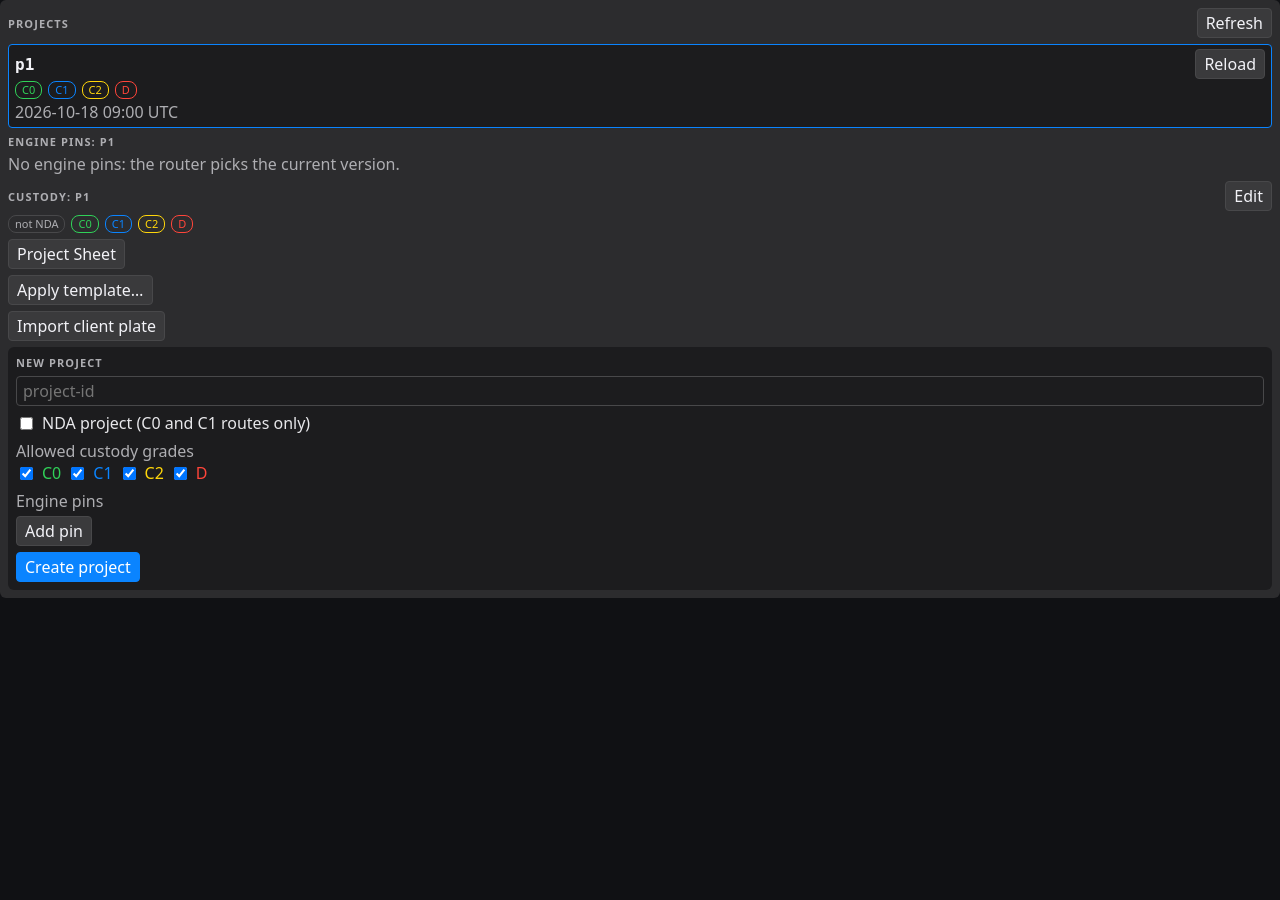
Test: import a client plate › posts the plate, shot and consent, then shows the packet as ingesting
Expected: the element with test id "custody-row" is shown, x1=8 y1=181 x2=1272 y2=233
Click the button "Import client plate": click(86, 326) x1=8 y1=311 x2=165 y2=341
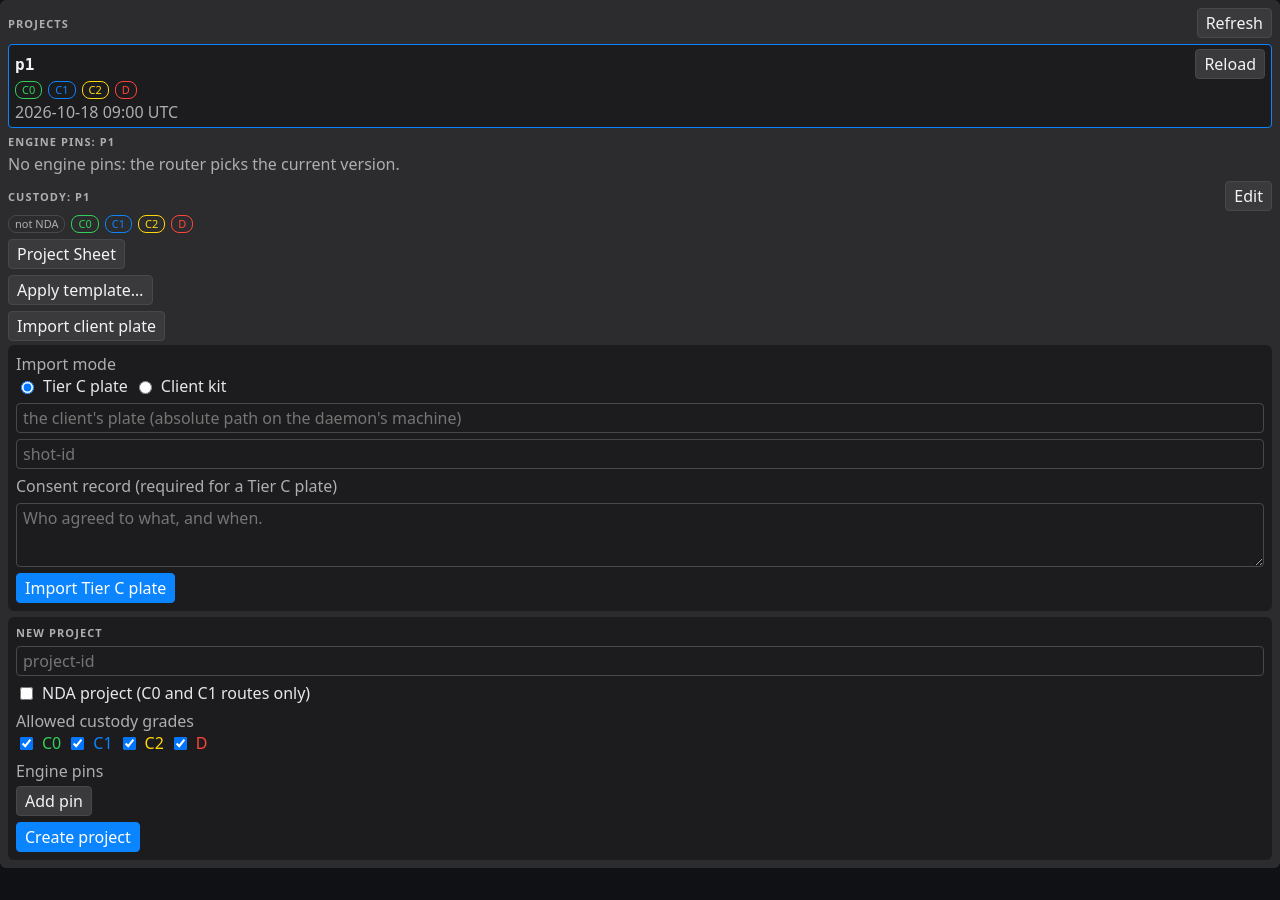
In the field named "Plate path": (640, 418) x1=16 y1=403 x2=1264 y2=433, type " /clients/tula/plate.png "
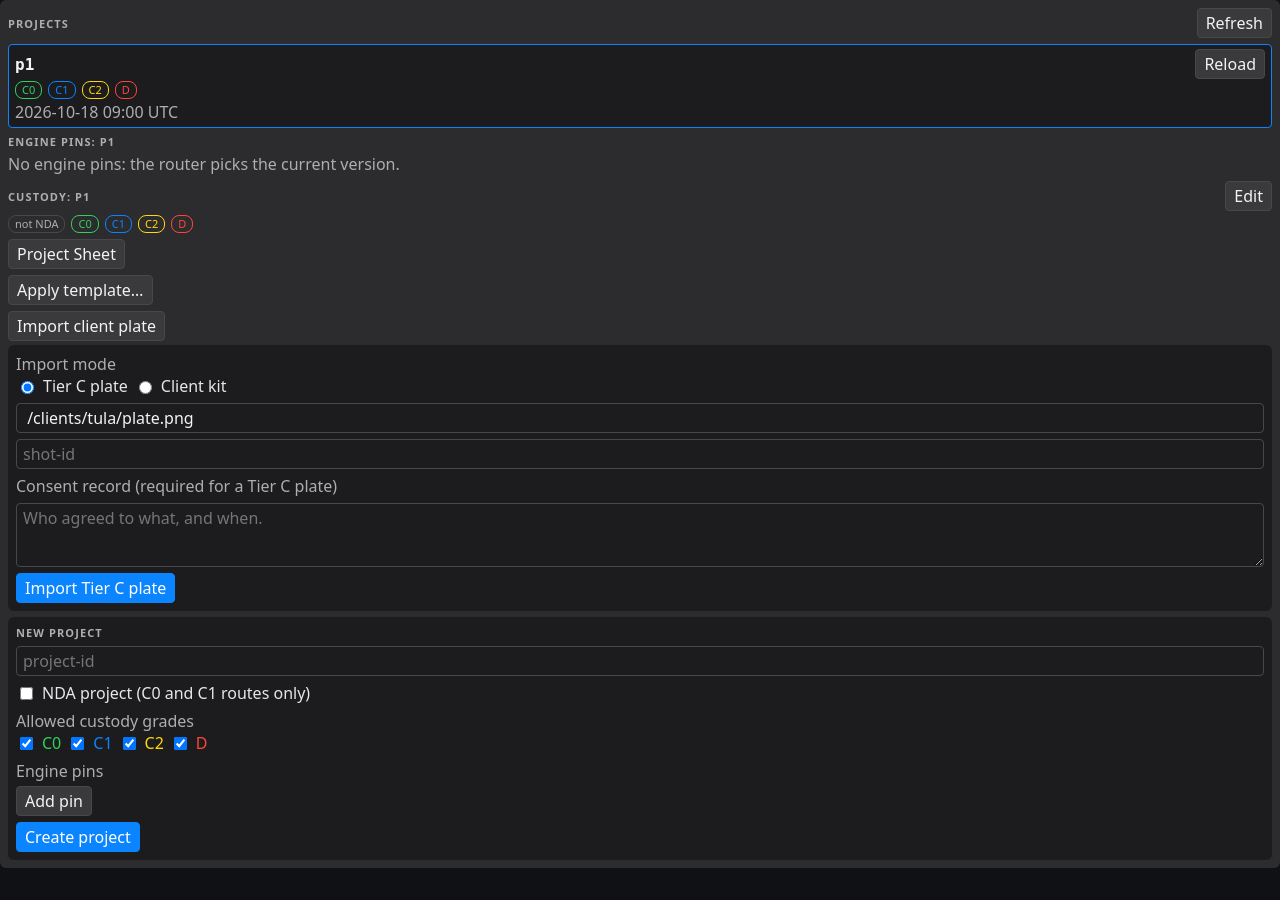
In the field named "Shot id": (640, 454) x1=16 y1=439 x2=1264 y2=469, type "s01"
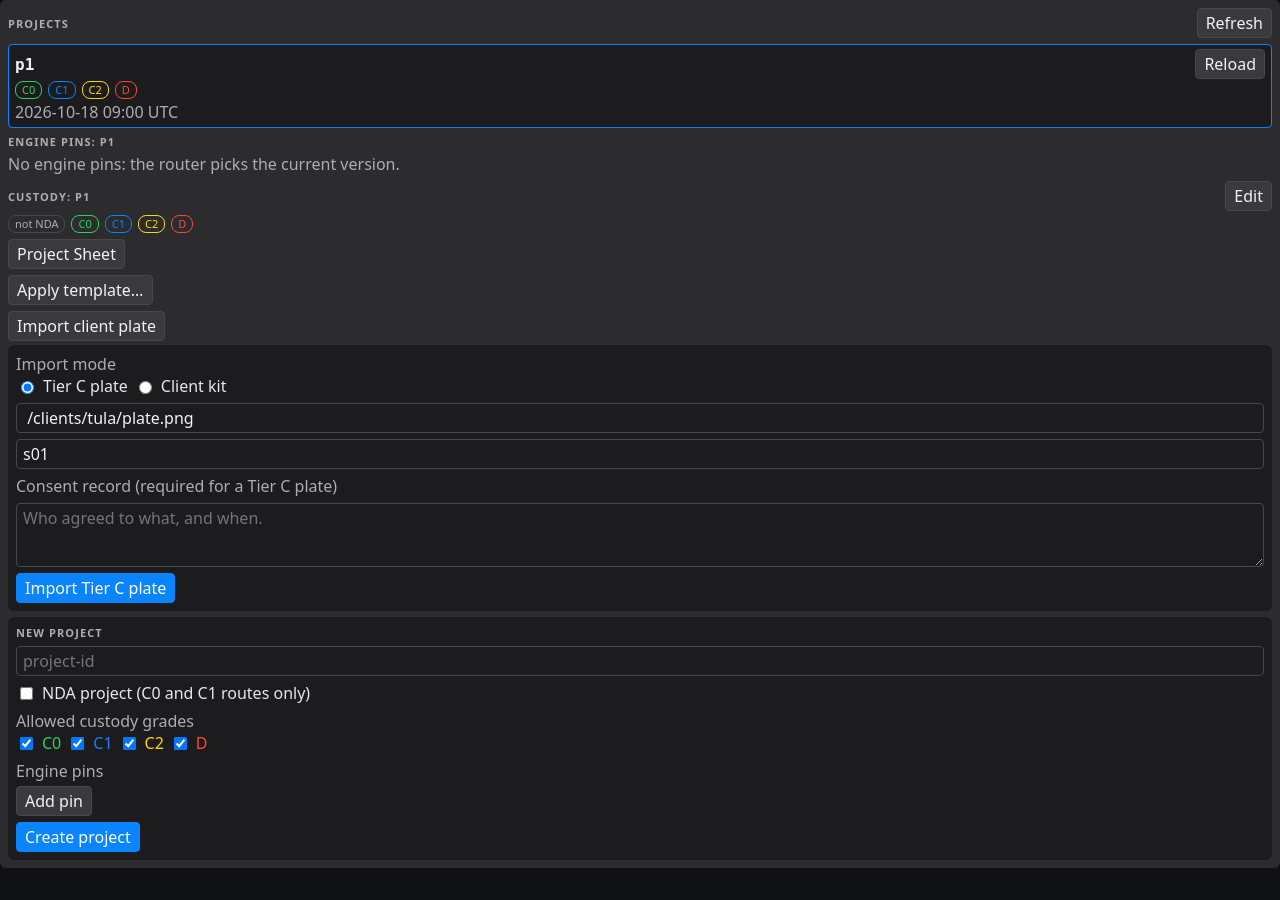
In the text box named "Consent record": (640, 535) x1=16 y1=503 x2=1264 y2=567, type "  Written consent from the client, 2026-10-18.  "
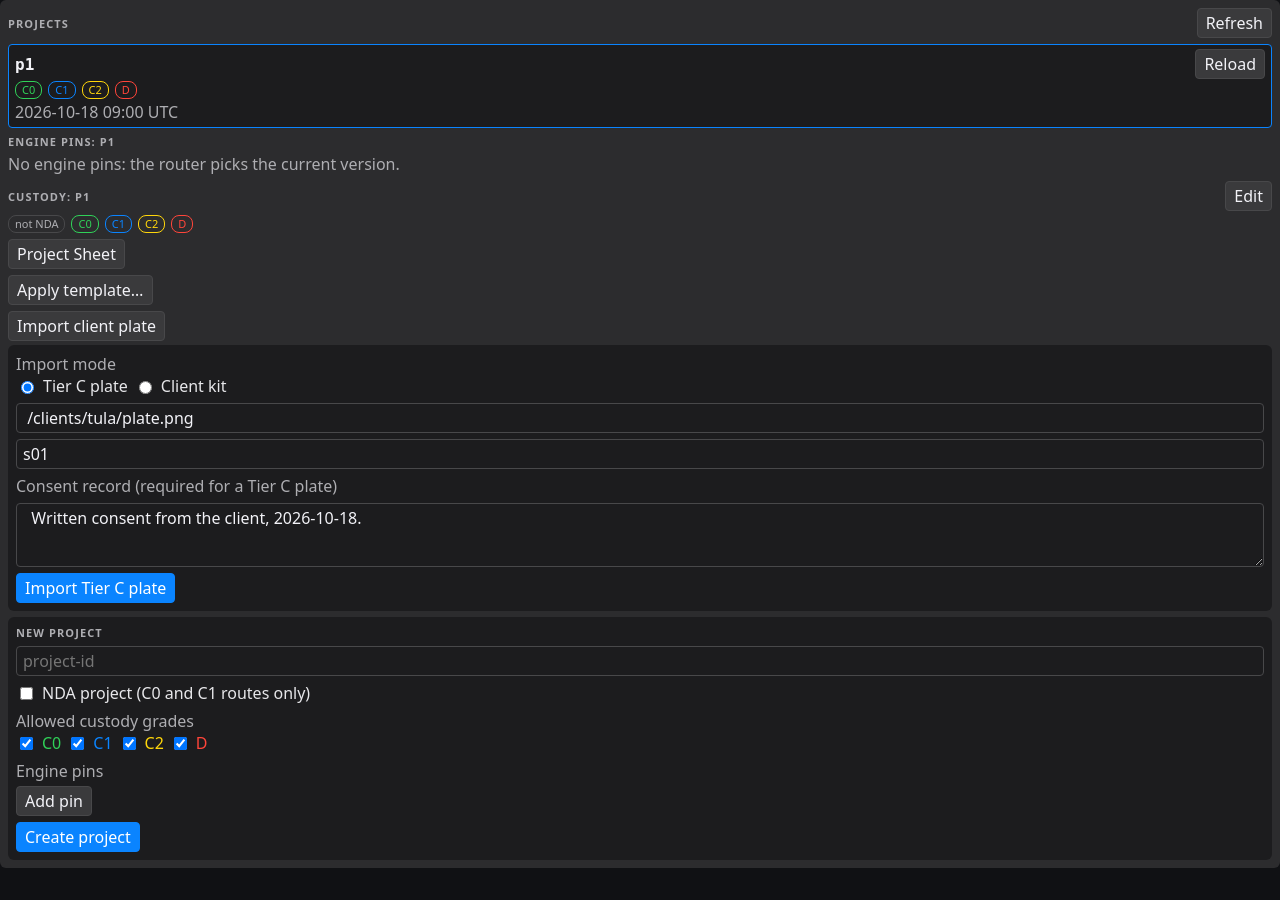
Click the button "Import Tier C plate": click(96, 588) x1=16 y1=573 x2=175 y2=603
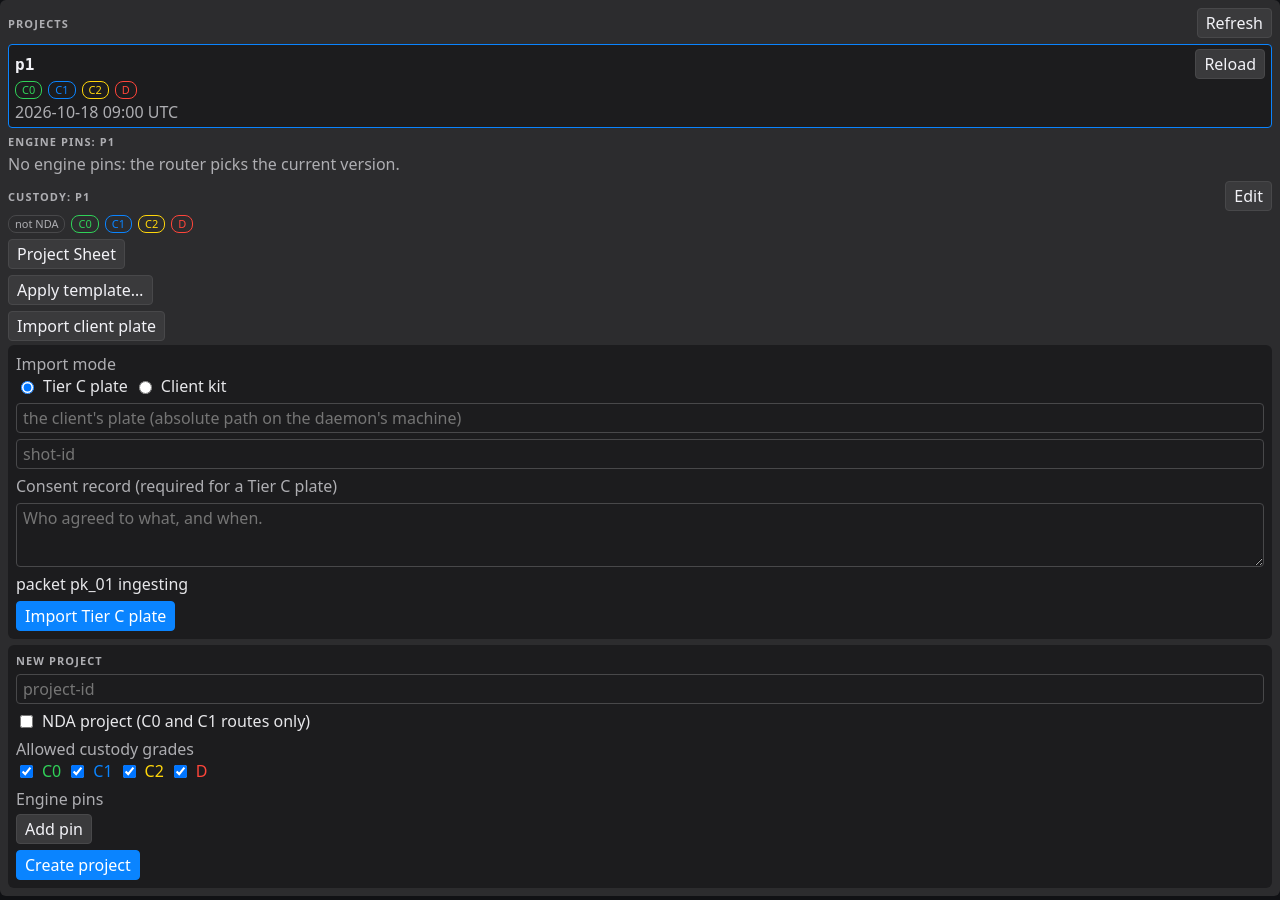
Expected: the message with test id "import-result" reads "packet pk_01 ingesting", x1=16 y1=573 x2=188 y2=595
Expected: the field named "Plate path" is empty, x1=16 y1=403 x2=1264 y2=433
Expected: the text box named "Consent record" is empty, x1=16 y1=503 x2=1264 y2=567
